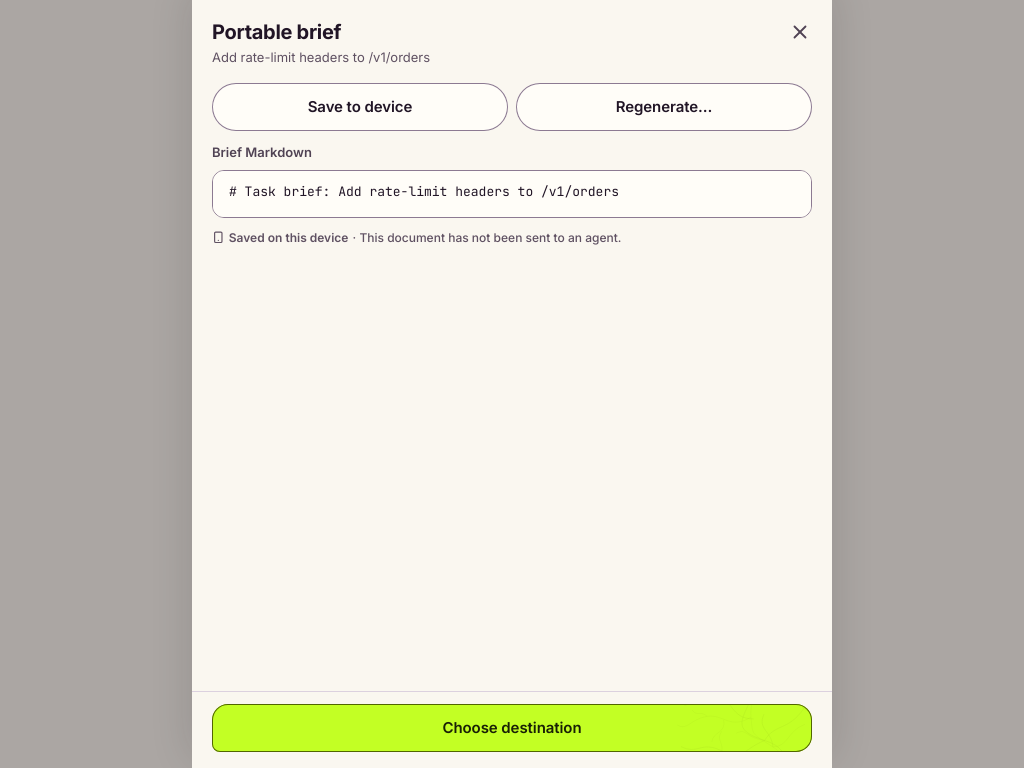
portable brief handoff › does not overwrite another unsent new-task draft
Click the button "Choose destination" at [512, 728], box [212, 704, 812, 752]
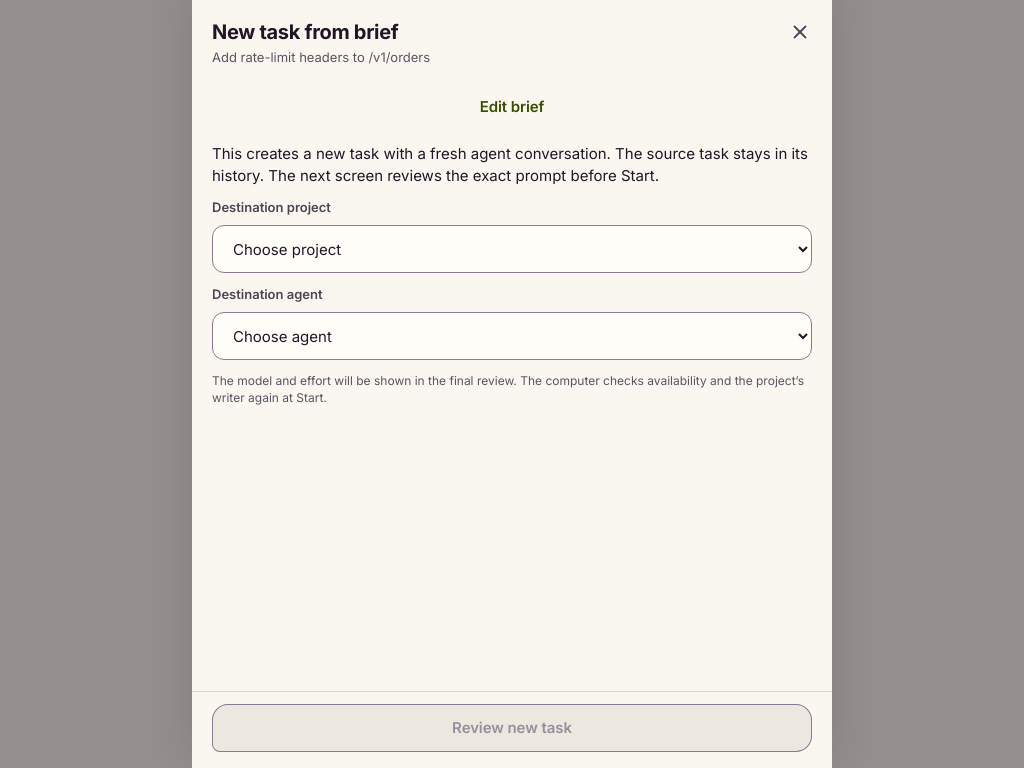
Select "field-notes" in the dropdown labelled "Destination project" at [512, 249], box [212, 225, 812, 273]
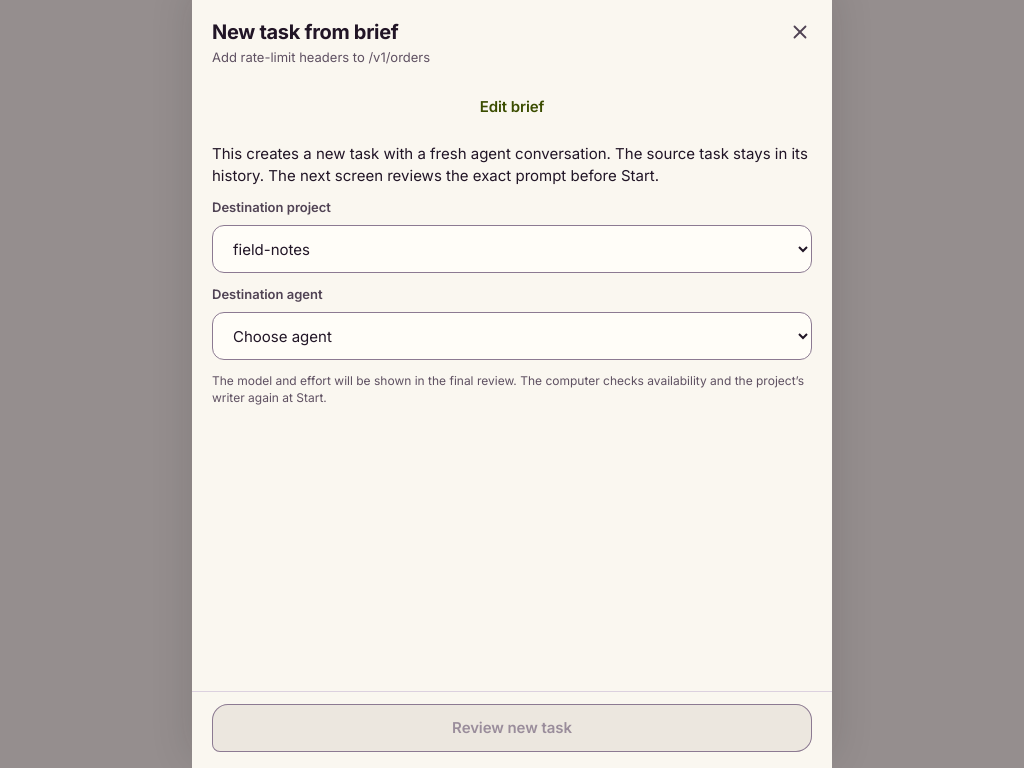
Select "Claude Code" in the dropdown labelled "Destination agent" at [512, 336], box [212, 312, 812, 360]
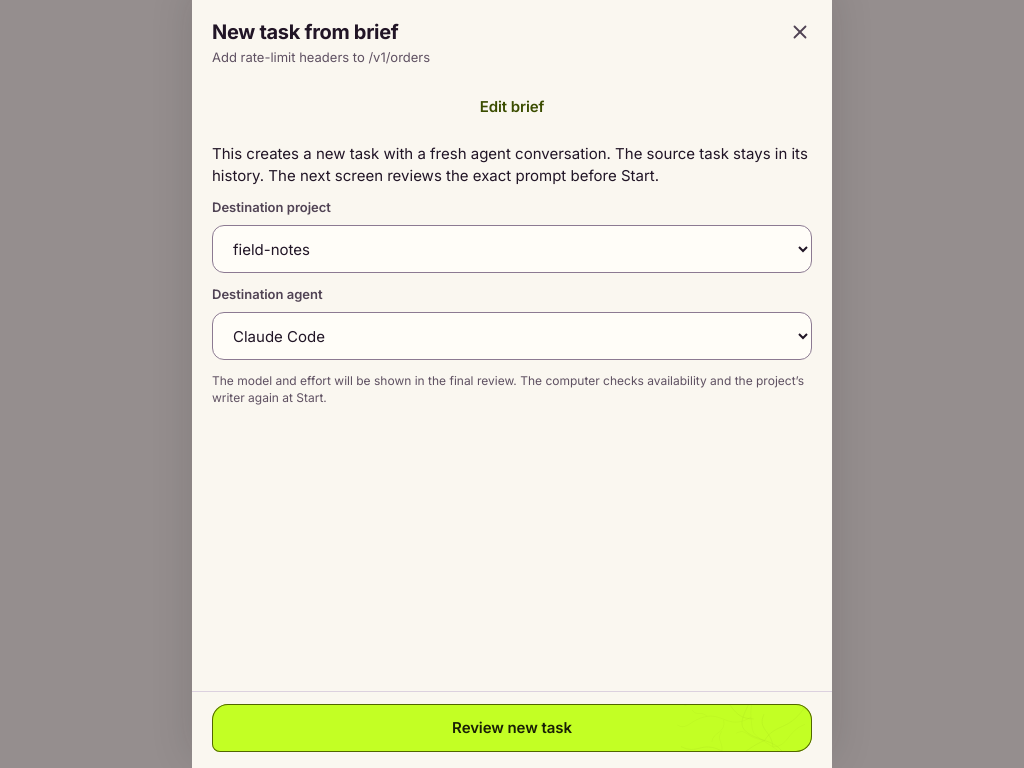
Click the button "Review new task" at [512, 728], box [212, 704, 812, 752]
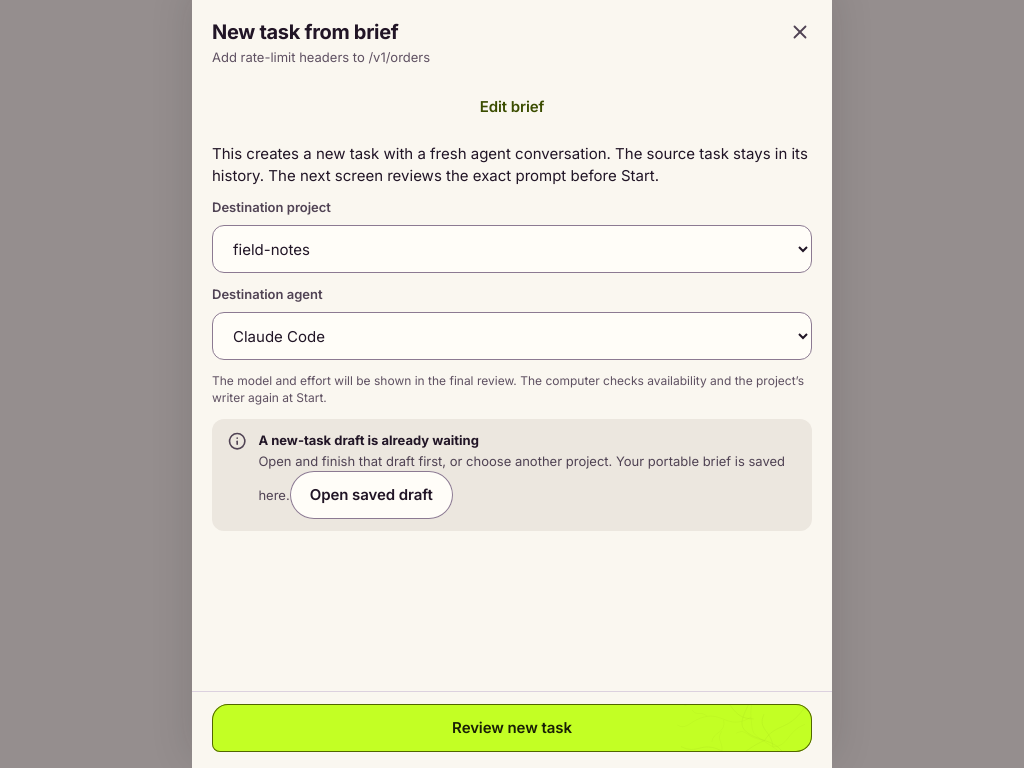
Now the text "A new-task draft is already waiting" is shown, box [258, 432, 479, 448]
